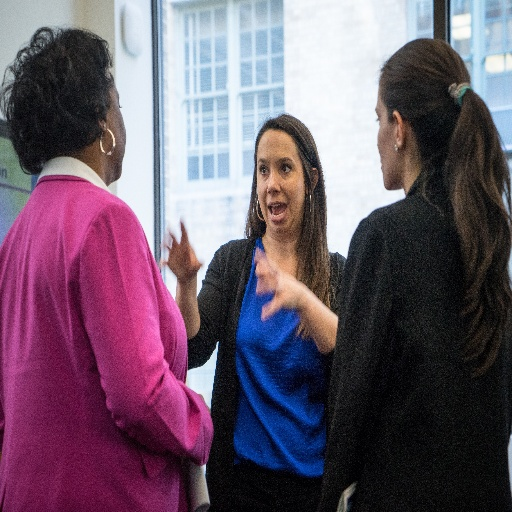hand: (254, 248, 306, 322), (152, 221, 195, 284)
